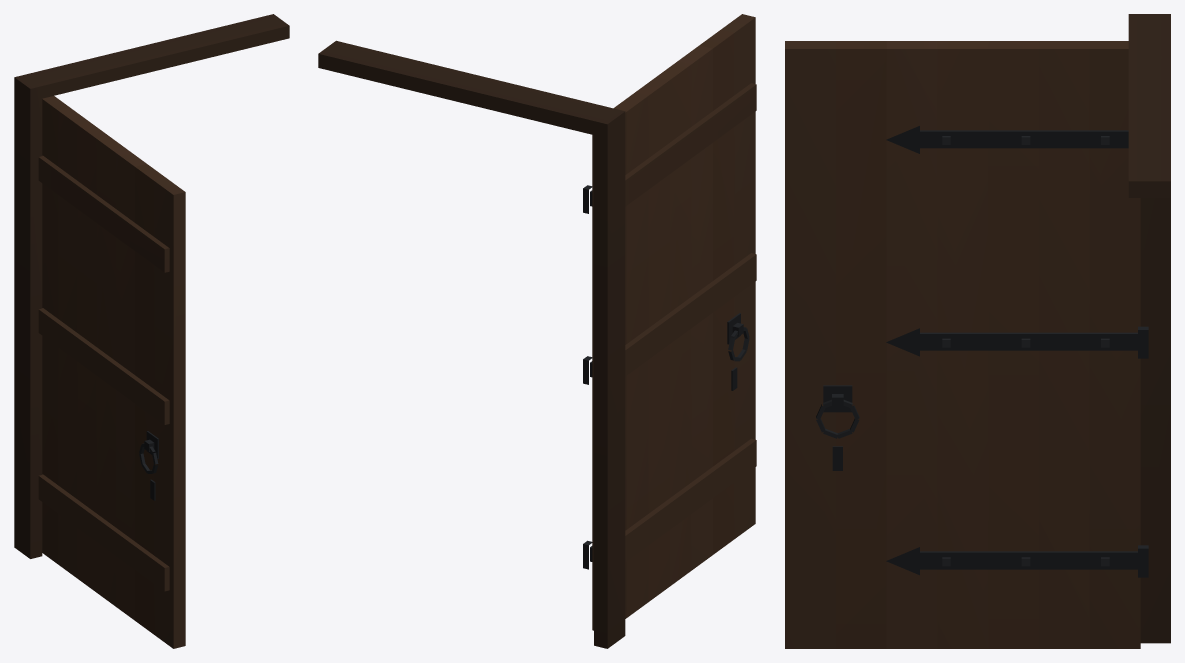
The model's file is door.oak_slim_open_pair.dark.glb.
The picture shows the model from 3 angles, left to right: view 1: azimuth 30°, elevation 25°; view 2: azimuth 150°, elevation 25°; view 3: azimuth 270°, elevation 25°; orthographic projection. The views are drawn at different scales.
Visible parts, largest first — view 1: door_oak_slim_open_pair_dark; view 2: door_oak_slim_open_pair_dark; view 3: door_oak_slim_open_pair_dark.
Boxes of the visible parts, left/top/right/bottom form: door_oak_slim_open_pair_dark: left=14, top=14, right=289, bottom=648; door_oak_slim_open_pair_dark: left=318, top=14, right=756, bottom=648; door_oak_slim_open_pair_dark: left=785, top=14, right=1170, bottom=648.
Size of what is drawn, in the model's own units: 1.5 by 2.6 by 1.46.
